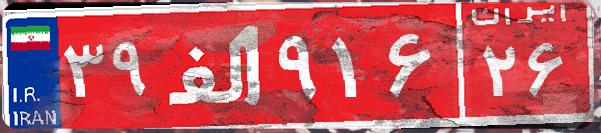1: (330, 28, 385, 110)
2: (475, 38, 525, 113)
3: (57, 26, 110, 107)
6: (385, 28, 445, 110), (525, 38, 570, 115)
9: (273, 28, 330, 110), (110, 28, 158, 105)
الف: (158, 15, 273, 115)
